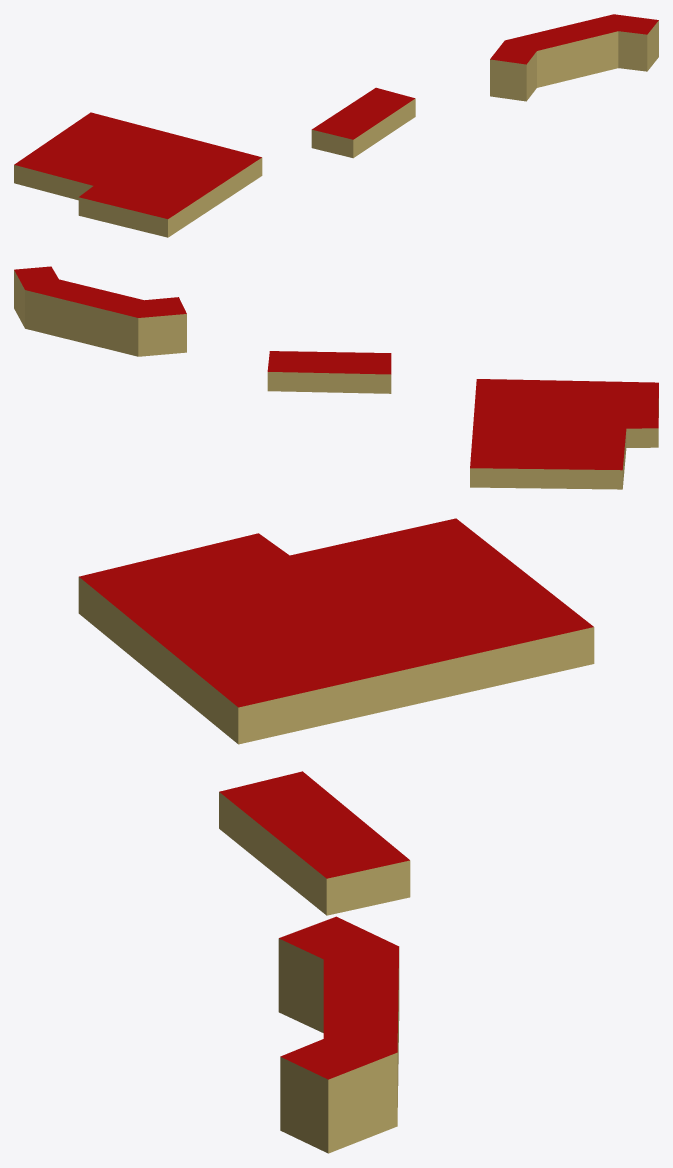
3 views of the same model, one above another, from view 1: azimuth 30°, elevation 25°; view 2: azimuth 150°, elevation 25°; view 3: azimuth 270°, elevation 25° (orthographic). The views are drawn at different scales.
Bounding box in the file's own units: 174 × 10 × 63.16.
